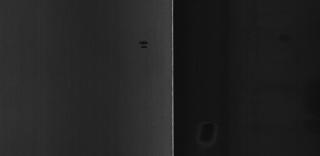oil spot: (132, 38, 154, 50)
